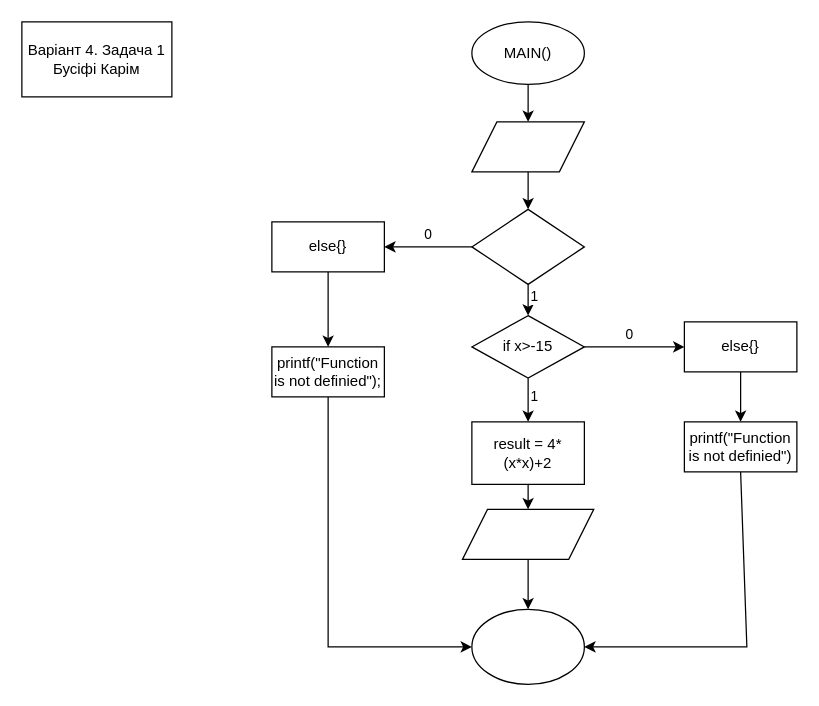
Image size: 819x706. Some labels were removed from this diagram. The shapes that lost their labels are listed below. From the top down, each one's box as (x1, y1, x2, y2) in pixels, then its label:
(471, 121, 584, 172): Ввід та запис данних
(471, 208, 584, 284): if<=3
(461, 508, 594, 559): printf("result")
(471, 608, 584, 684): return 0;
